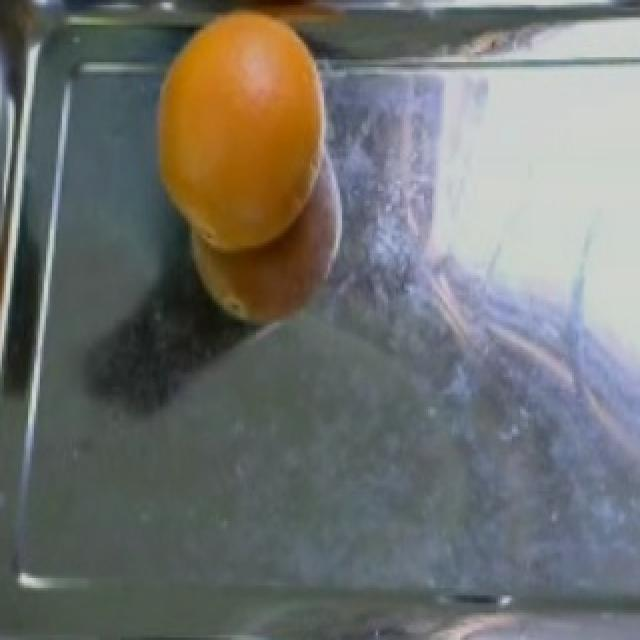Fruit: (148, 0, 336, 293)
